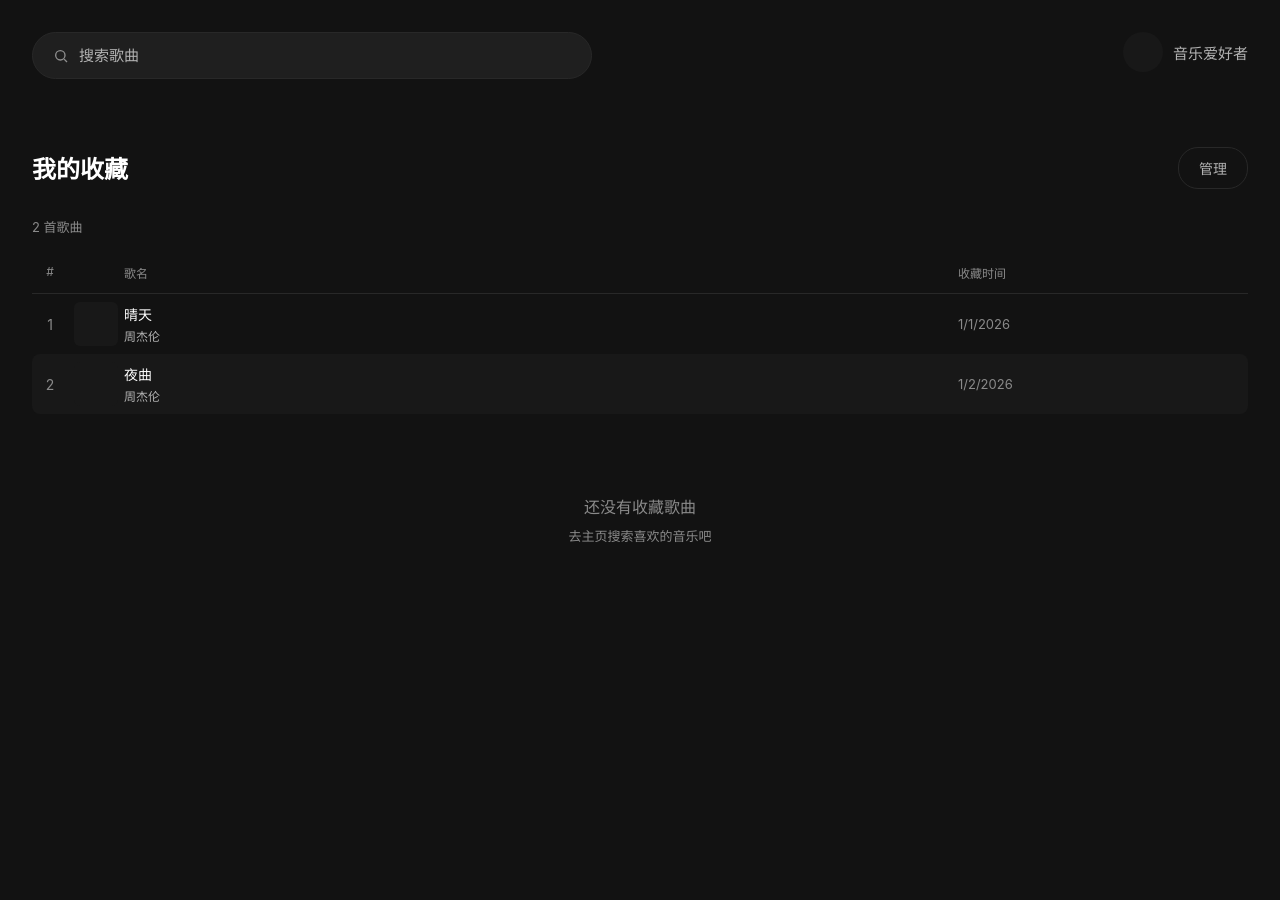
Test: LikesView 批量取消收藏 › 成功时调批量接口、更新 favIds、显示成功并退出管理模式
// 进入管理模式并选中第一首
Step 1. Click the button with class "btn-manage" → coordinates (1213, 168), box [1178,147,1248,189]
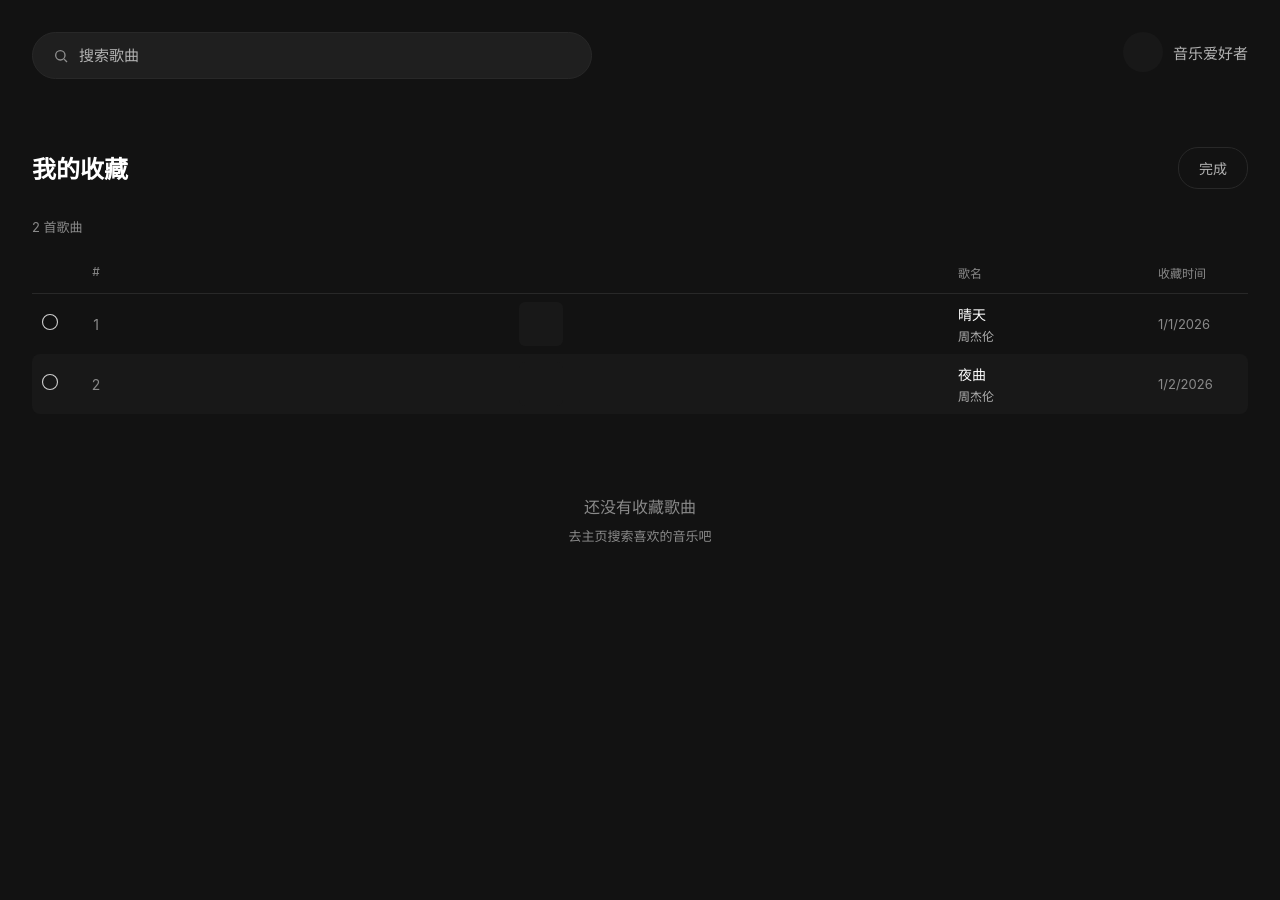
Step 2. Click the button with class "table-row" showing "1 晴天 周杰伦 1/1/2026" → coordinates (541, 324), box [32,294,1248,354]
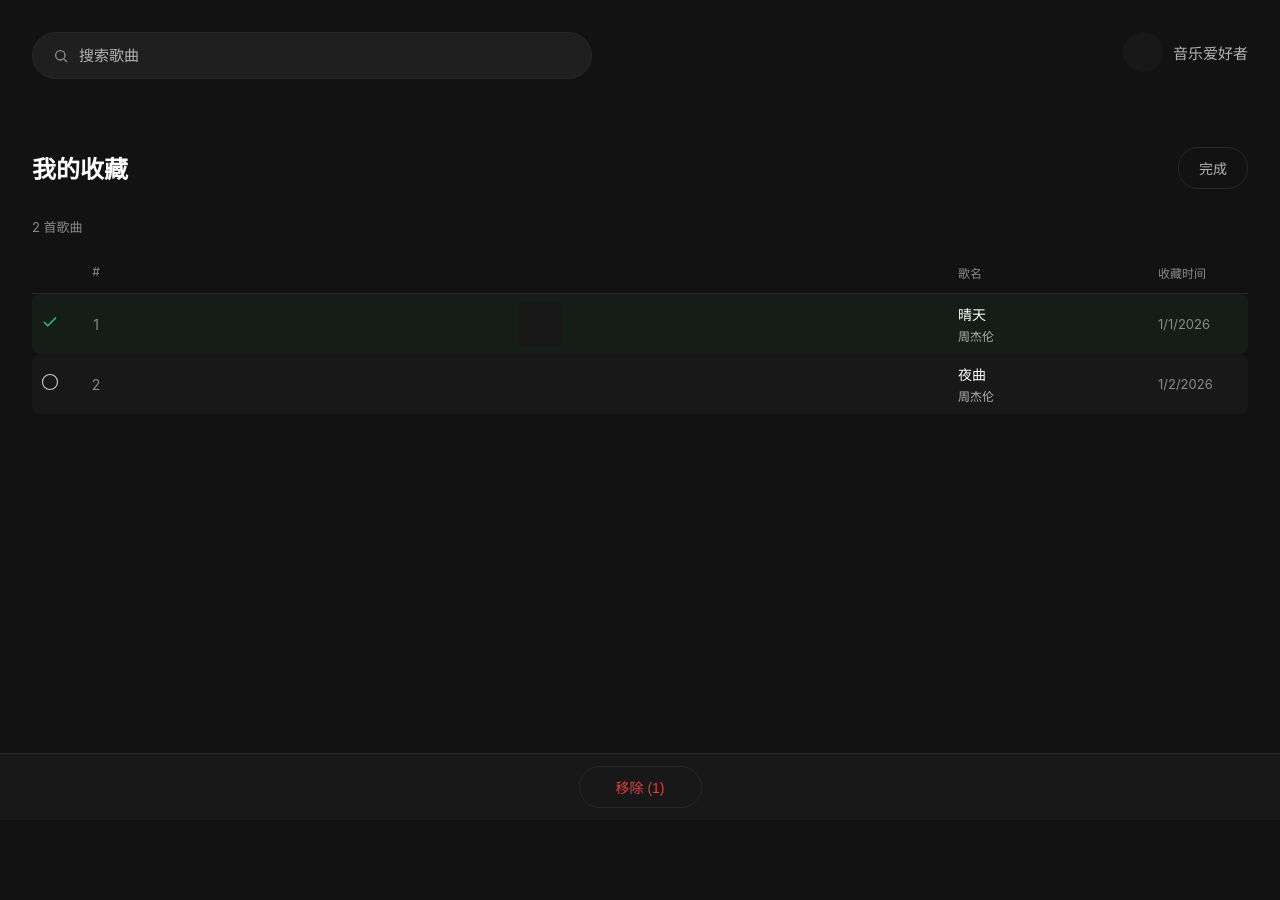
Result: the button with class "batch-btn" is shown
Step 3. Click the button with class "batch-btn" → coordinates (640, 787), box [578,766,702,808]
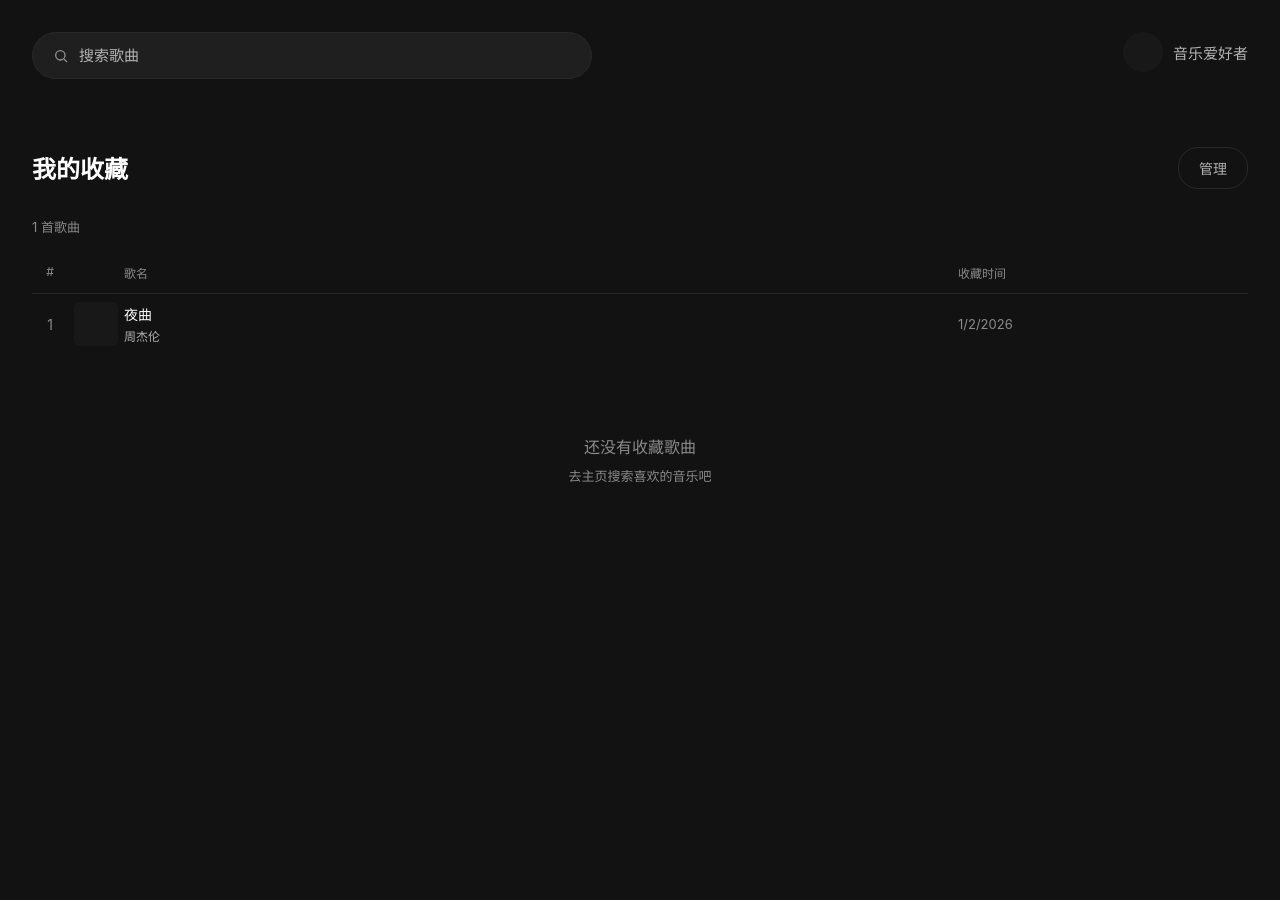
Result: the number of buttons with class "table-row" is 1 at [32,294,1248,354]
Result: the button with class "btn-manage" reads "管理" at [1178,147,1248,189]
